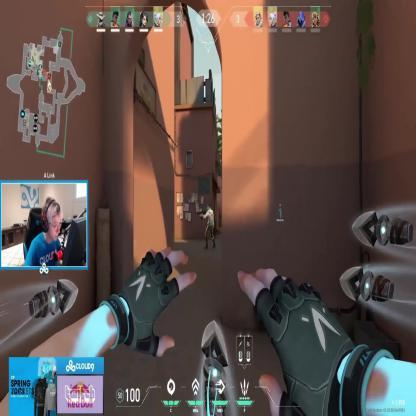enemy: (204, 204, 216, 249)
enemy_head: (208, 204, 210, 212)
